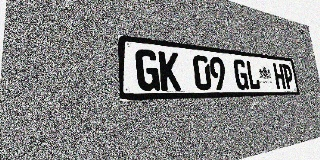0: (192, 54, 212, 90)
9: (209, 56, 227, 90)
G: (135, 48, 160, 91), (233, 59, 249, 90)
H: (273, 63, 286, 89)
K: (158, 51, 181, 91)
L: (245, 60, 261, 90)
P: (282, 64, 295, 89)
